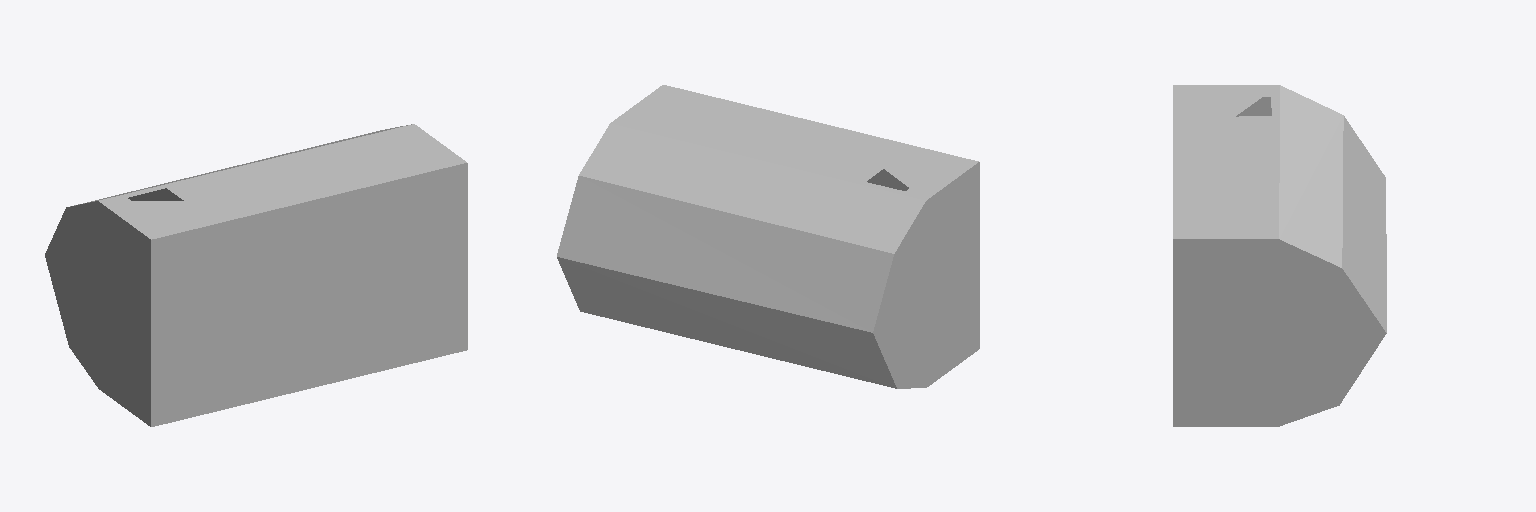
Rendered from barn_norm.obj.
3 renders of one model, left to right at view 1: azimuth 30°, elevation 25°; view 2: azimuth 150°, elevation 25°; view 3: azimuth 270°, elevation 25°, orthographic.
Parts seen in each view (by area): view 1: Cube.001_Cube.000; view 2: Cube.001_Cube.000; view 3: Cube.001_Cube.000.
Boxes of the visible parts, box(x1,y1,x2,y2) form: Cube.001_Cube.000: box(45, 124, 467, 426); Cube.001_Cube.000: box(557, 85, 979, 388); Cube.001_Cube.000: box(1173, 85, 1386, 426).
Size of the model in its own units: 6.24 by 3.54 by 3.64.